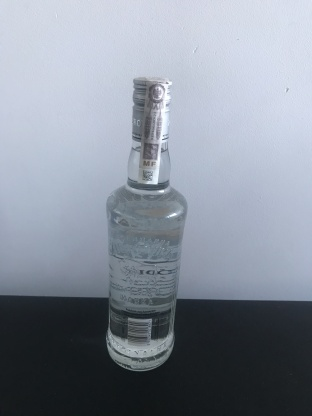nakretka: (129, 72, 174, 146)
